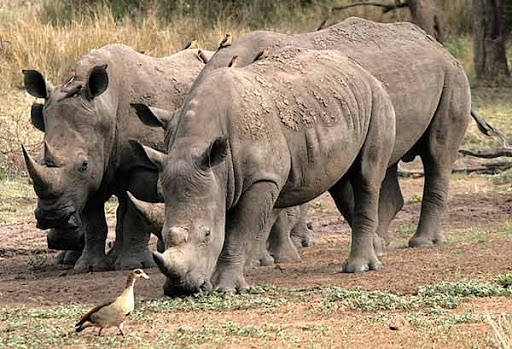rhino: (131, 11, 495, 250), (124, 48, 397, 294), (18, 46, 302, 264)
